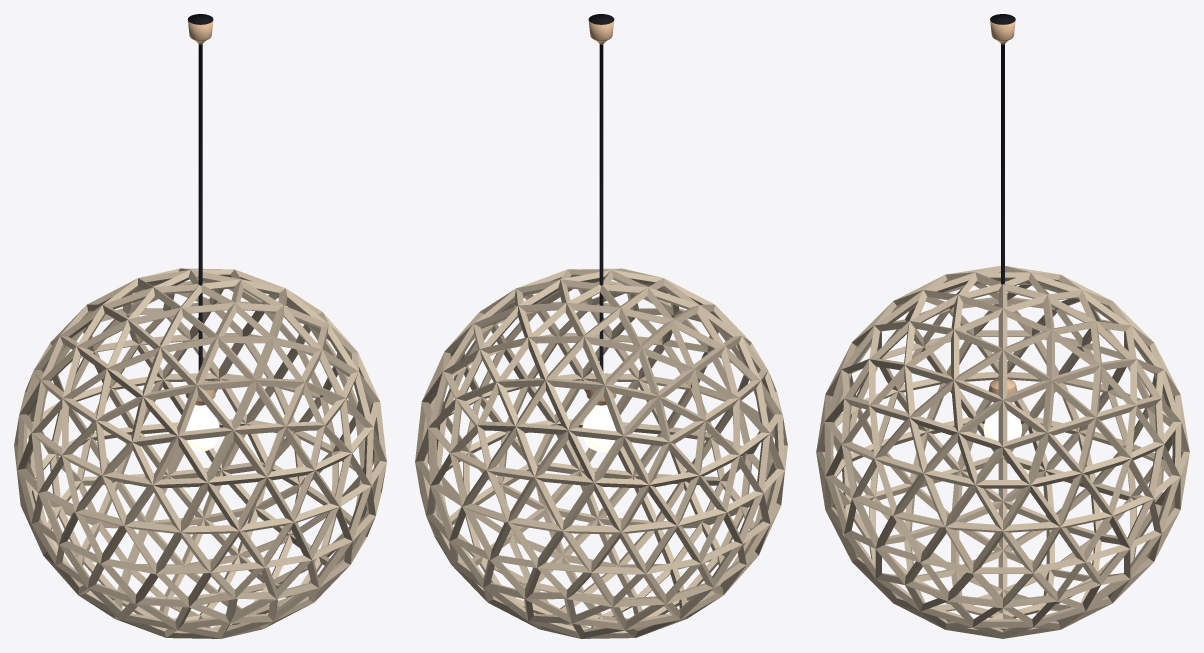
File: roomlight.51d07f16.glb
3 views of the same model, side by side, from view 1: azimuth 30°, elevation 25°; view 2: azimuth 150°, elevation 25°; view 3: azimuth 270°, elevation 25° (orthographic).
Parts seen in each view (by area): view 1: Icosphere_0, Cylinder_1; view 2: Icosphere_0, Cylinder_1; view 3: Icosphere_0, Cylinder_1.
Part boxes in pixels (<box>): Icosphere_0: <box>14,268,386,638</box>; Cylinder_1: <box>185,14,219,451</box>; Icosphere_0: <box>415,268,787,638</box>; Cylinder_1: <box>582,14,616,451</box>; Icosphere_0: <box>816,266,1189,638</box>; Cylinder_1: <box>983,14,1021,440</box>.
Size of the model in its own units: 2.05 by 3.64 by 2.05.
